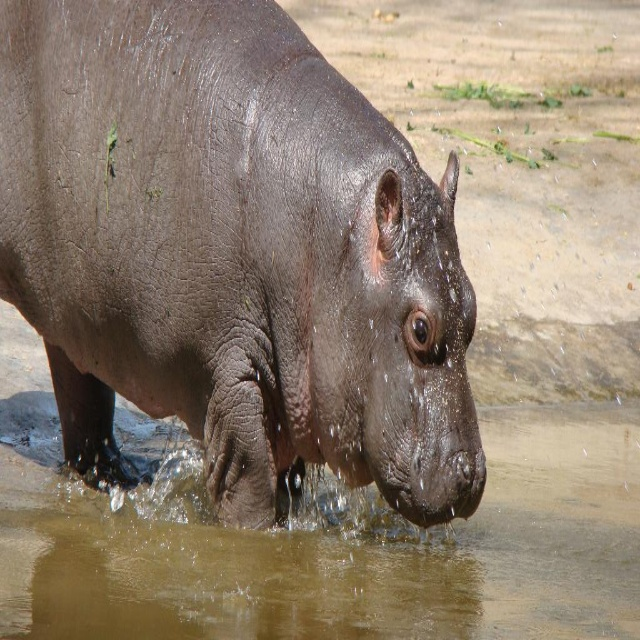Hippopotamus: (2, 0, 486, 540)
